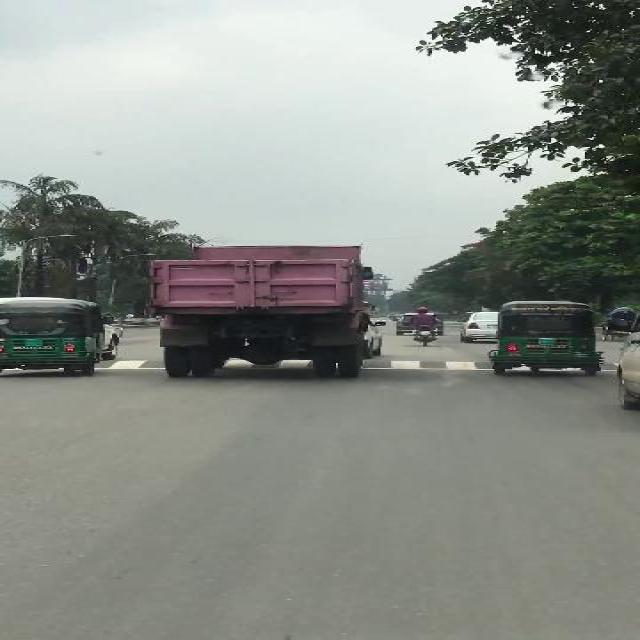car: (459, 311, 497, 344)
motorbike: (410, 307, 436, 347)
rickshaw: (599, 306, 635, 340)
three wheelers -CNG-: (490, 300, 605, 378), (0, 298, 107, 377)
truck: (146, 242, 373, 382)
